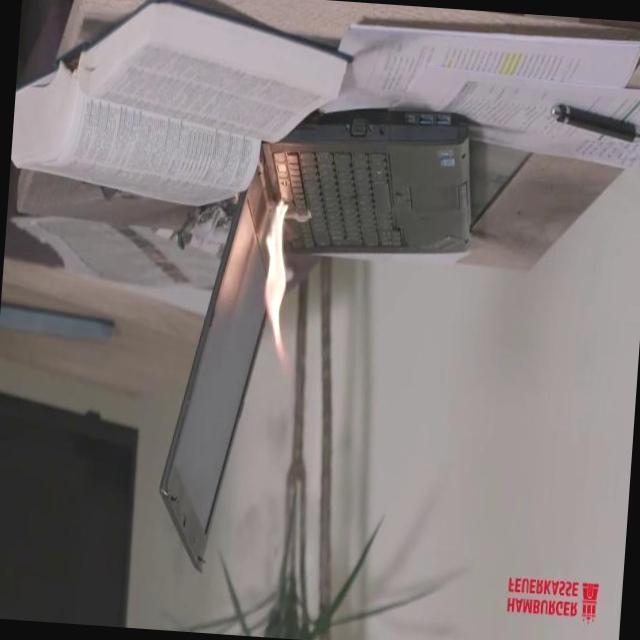fire: (238, 192, 314, 362)
